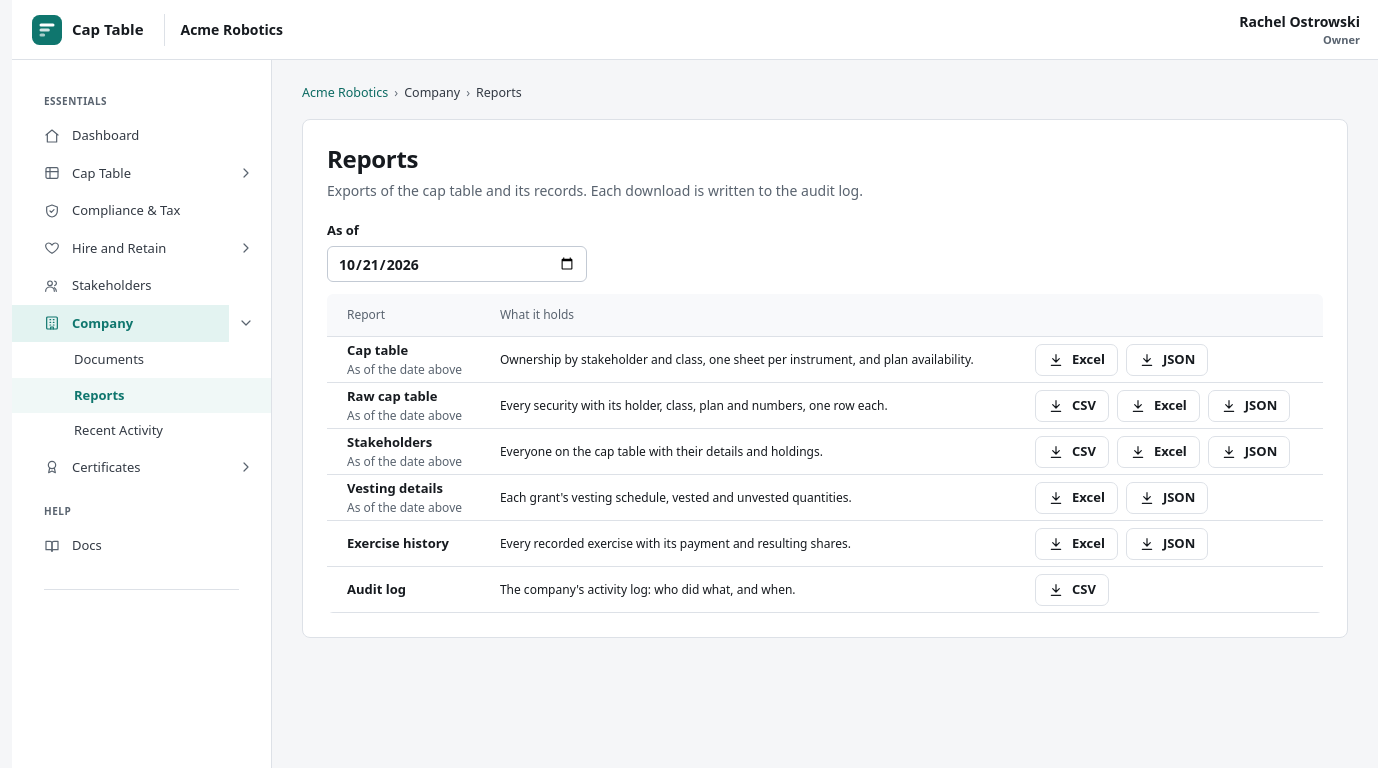
Test: reports › says which report couldn't be downloaded
The image size is (1378, 768).
What coordinates should you click on to do the following:
click the button with aria-label "Download the stakeholders as CSV"
I would click on:
 (1072, 452)
Its box is [1035,436,1109,468].
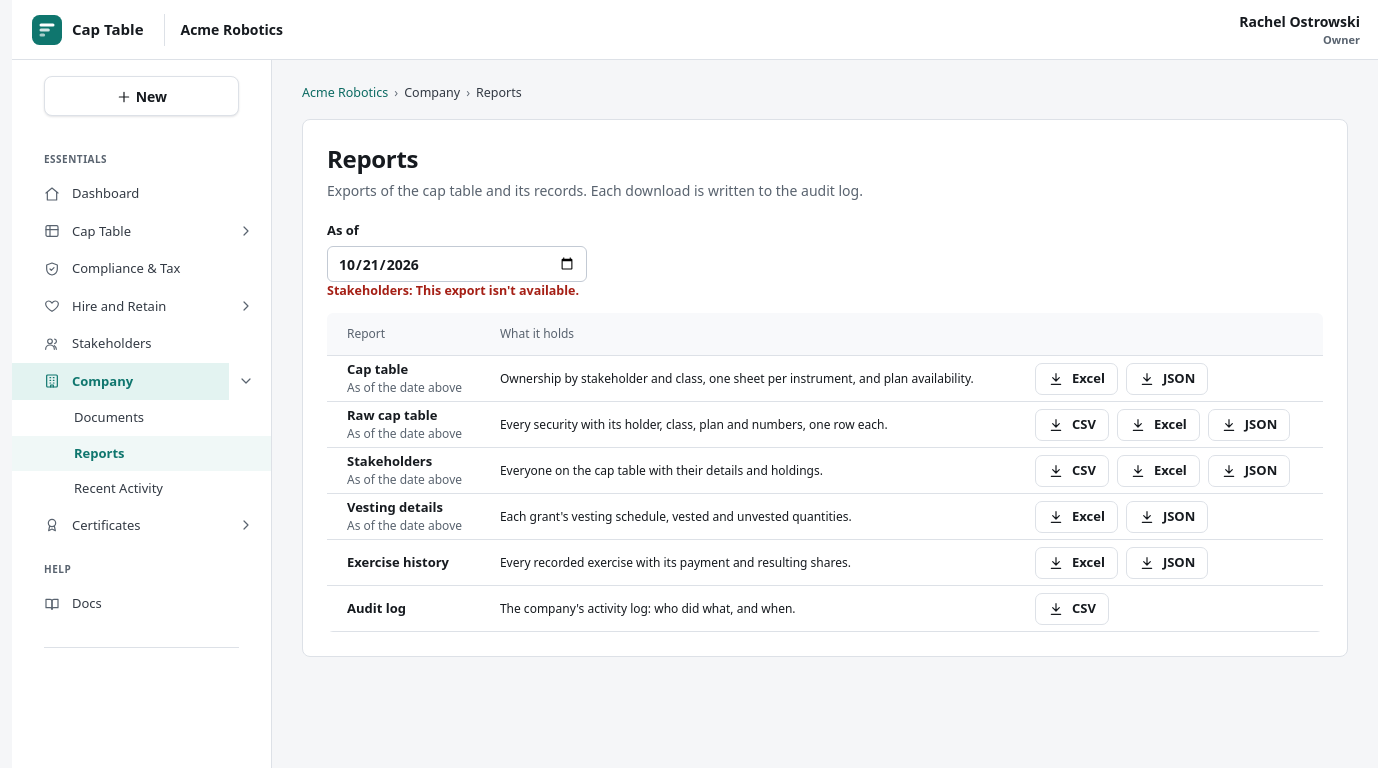
Expected: the text "Stakeholders: This export isn't available." is shown, [327,282,579,299]
